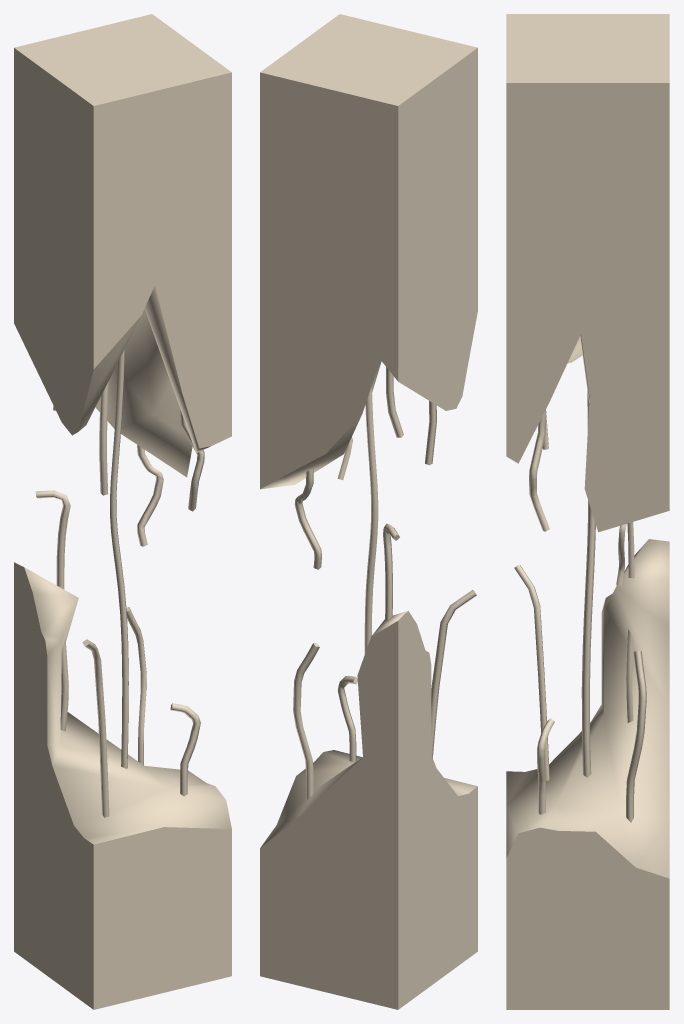
Rendered from ConcreteStack_03.fbx.
The picture shows the model from 3 angles, left to right: view 1: azimuth 30°, elevation 25°; view 2: azimuth 150°, elevation 25°; view 3: azimuth 270°, elevation 25°; orthographic projection. The views are drawn at different scales.
Parts seen in each view (by area): view 1: Concrete_Stack_03_LOD0; view 2: Concrete_Stack_03_LOD0; view 3: Concrete_Stack_03_LOD0.
Boxes of the visible parts, x1,y1,x2,y2 form: Concrete_Stack_03_LOD0: (14,14,231,1009); Concrete_Stack_03_LOD0: (260,14,477,1009); Concrete_Stack_03_LOD0: (506,14,669,1009).
Size of what is drawn, in the model's own units: 0.4132 by 2.5 by 0.4.
